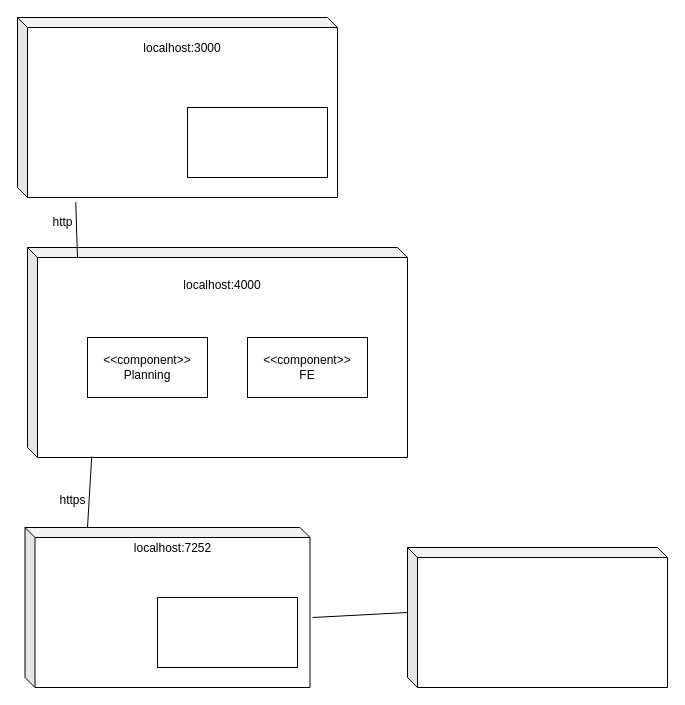
This 685x705 diagram has some shape labels left out. The shapes that lost their labels are listed below. From the top down, each one's centre as x and y in pixels, then its label:
At point 257,142: "<<component>> MongoDB".
At point 227,632: "<<component>> MySql".
At point 537,617: "localhost:5000 (Server PROLOG)".
